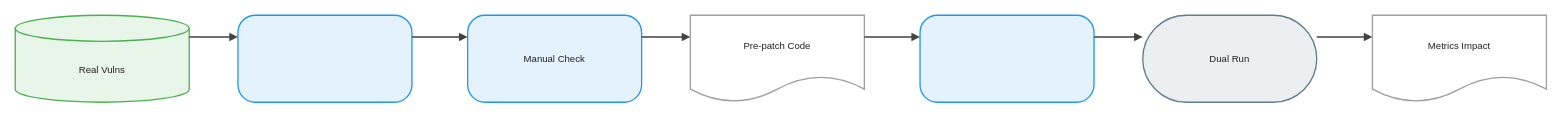
This 1563x118 diagram has some shape labels left out. The centre of each missing label's shape, as x and y in pixels:
Agent PoC: pixel 1006 58
Auto Filters: pixel 324 58
